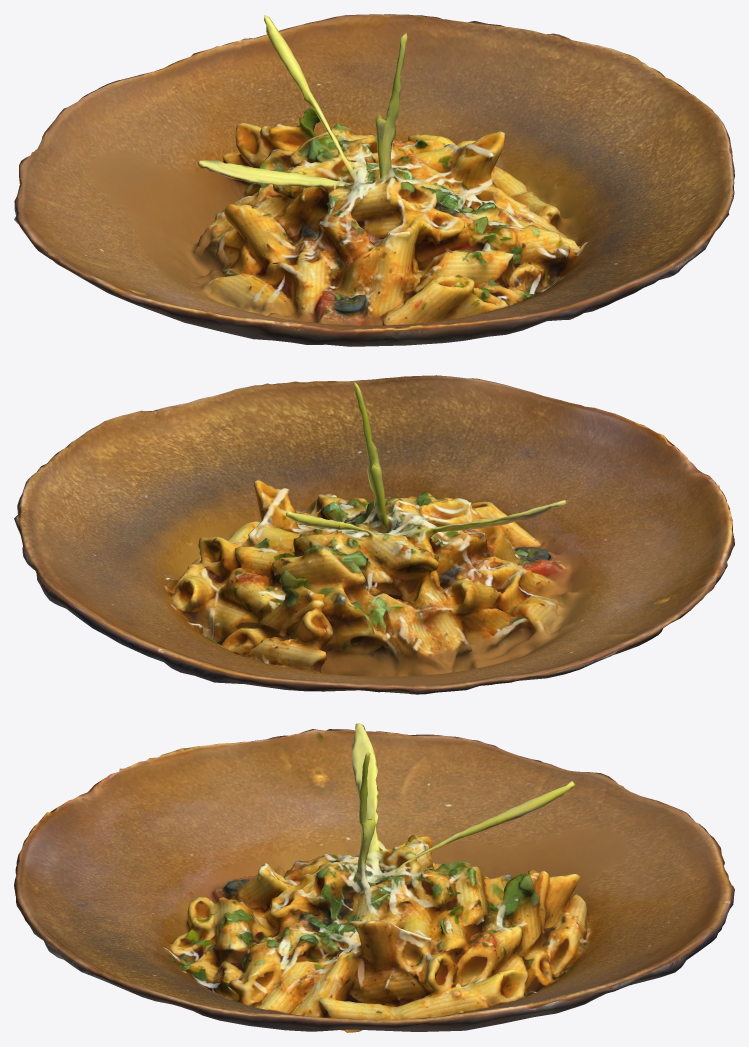
The model's file is penne-a-l-arrabiata.glb.
The picture shows the model from 3 angles, top to bottom: view 1: azimuth 30°, elevation 25°; view 2: azimuth 150°, elevation 25°; view 3: azimuth 270°, elevation 25°; orthographic projection. The views are drawn at different scales.
Parts seen in each view (by area): view 1: /ObjectCapture/Geometry/Mesh; view 2: /ObjectCapture/Geometry/Mesh; view 3: /ObjectCapture/Geometry/Mesh.
Boxes of the visible parts, x1,y1,x2,y2 form: /ObjectCapture/Geometry/Mesh: (14,14,734,346); /ObjectCapture/Geometry/Mesh: (14,375,734,694); /ObjectCapture/Geometry/Mesh: (14,723,734,1032).
Bounding box in the file's own units: 0.2737 × 0.1012 × 0.2722.
1 material, 1 textured.
